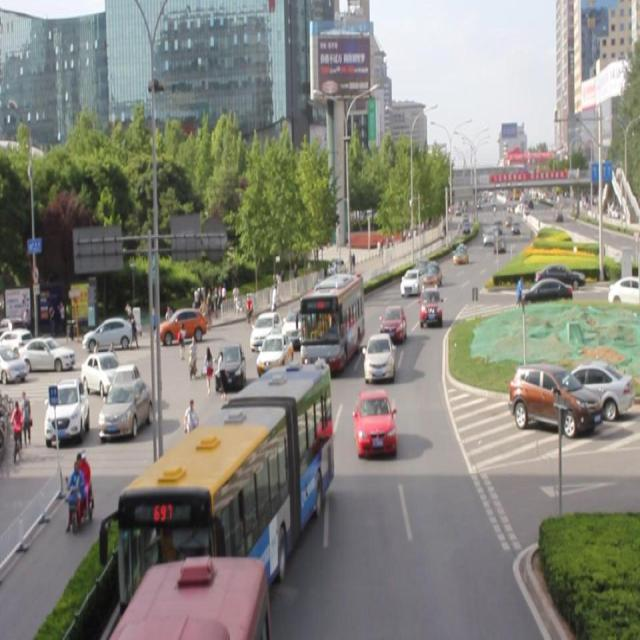car: (354, 387, 396, 458), (253, 363, 297, 423), (211, 337, 245, 392), (248, 309, 281, 354), (256, 332, 293, 372), (280, 303, 313, 346), (363, 332, 393, 378), (378, 305, 407, 341), (419, 286, 441, 326), (422, 262, 441, 287), (399, 268, 417, 294)
van: (121, 363, 330, 597), (121, 553, 266, 640), (300, 273, 363, 367)
